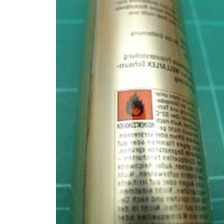aerosol_cans: (65, 0, 219, 223)
